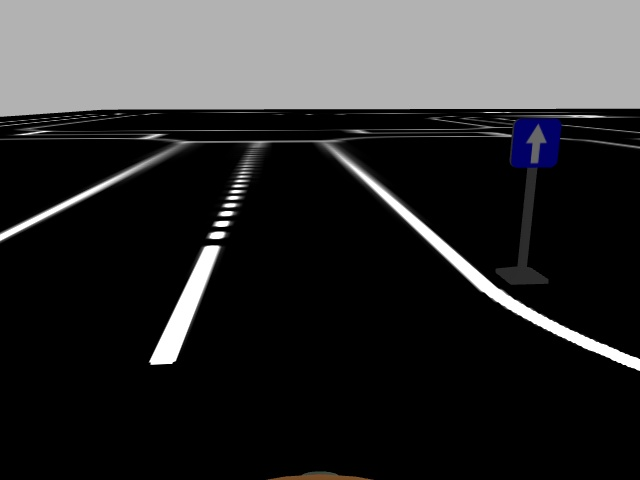oneway: (510, 116, 564, 170)
